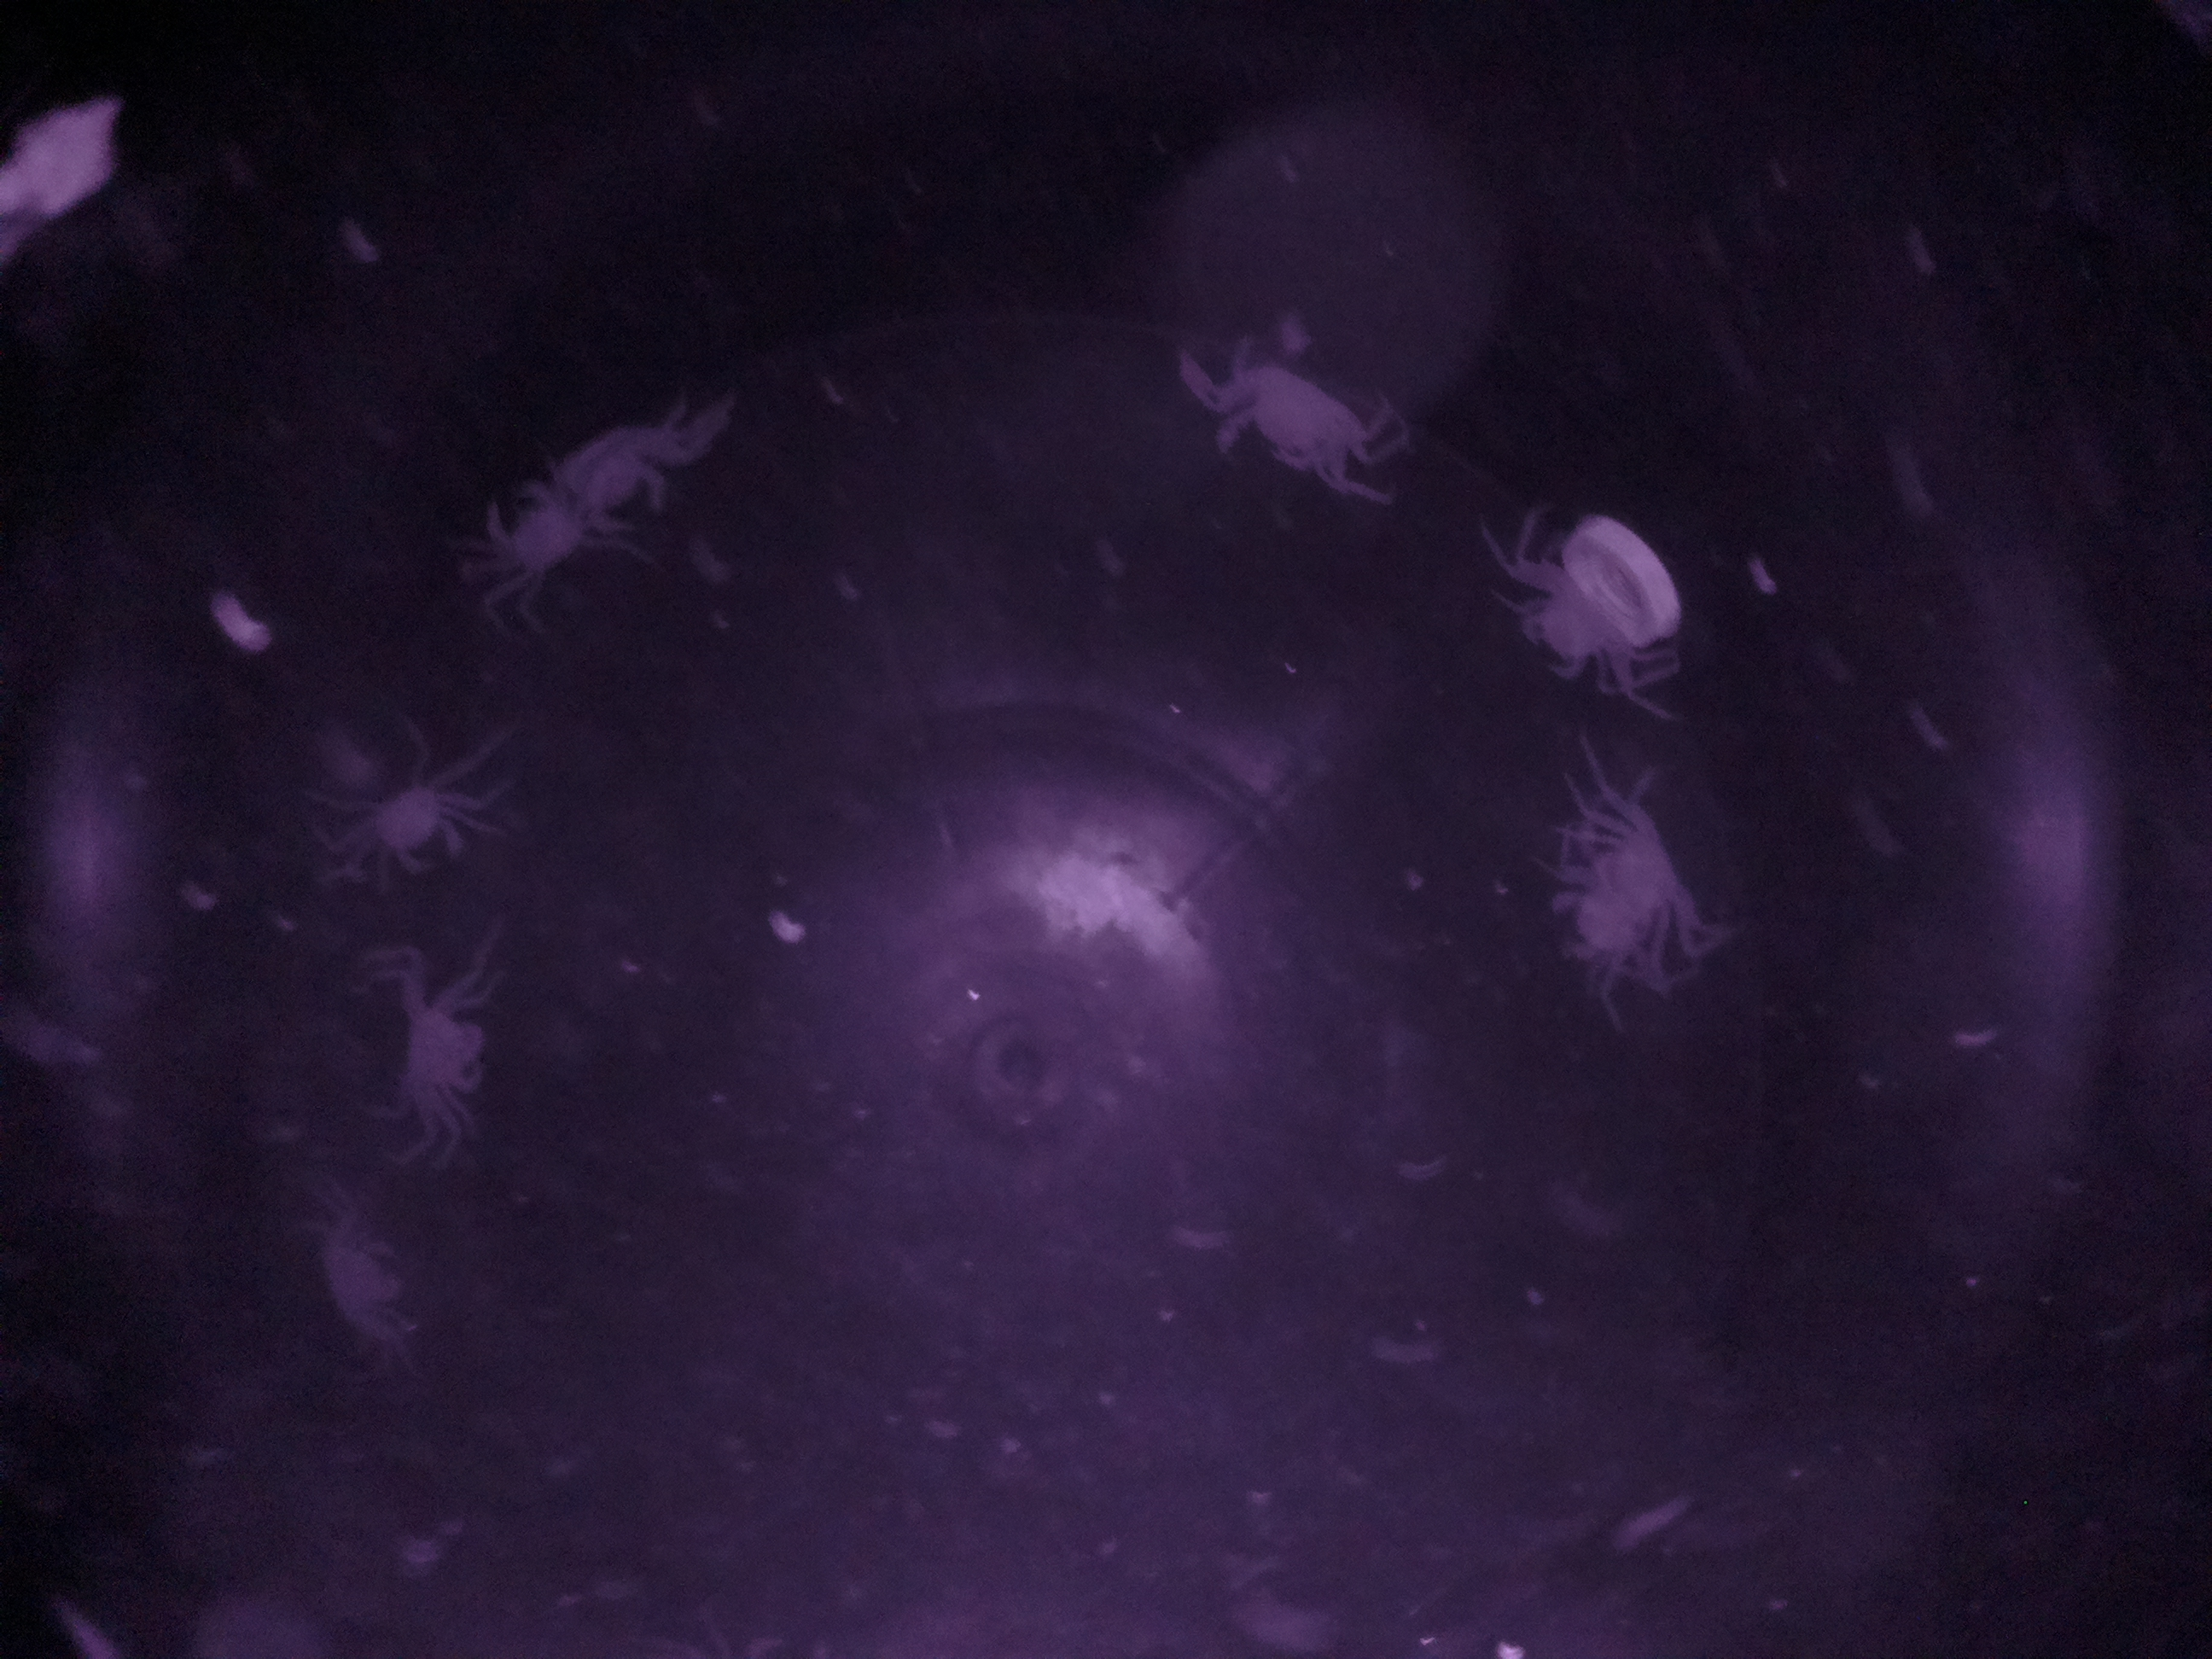Crab: (1179, 319, 1406, 516), (376, 958, 529, 1162), (307, 735, 493, 903), (1489, 525, 1651, 702)
